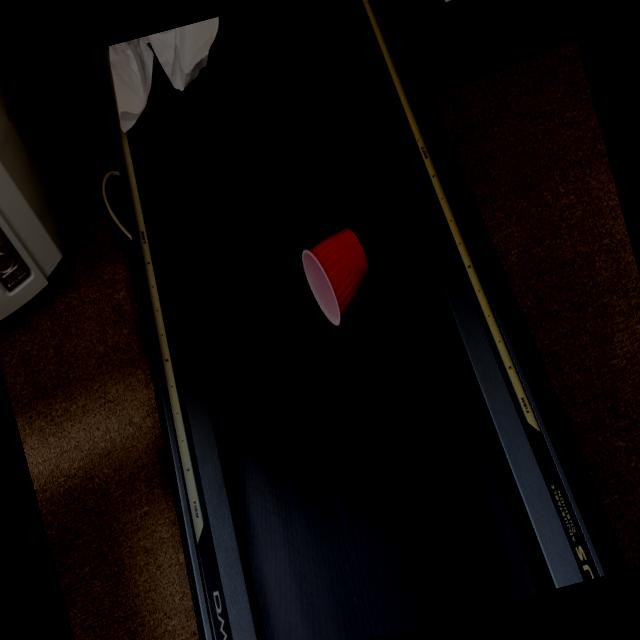Recycle: (98, 15, 245, 130), (296, 226, 386, 336)
